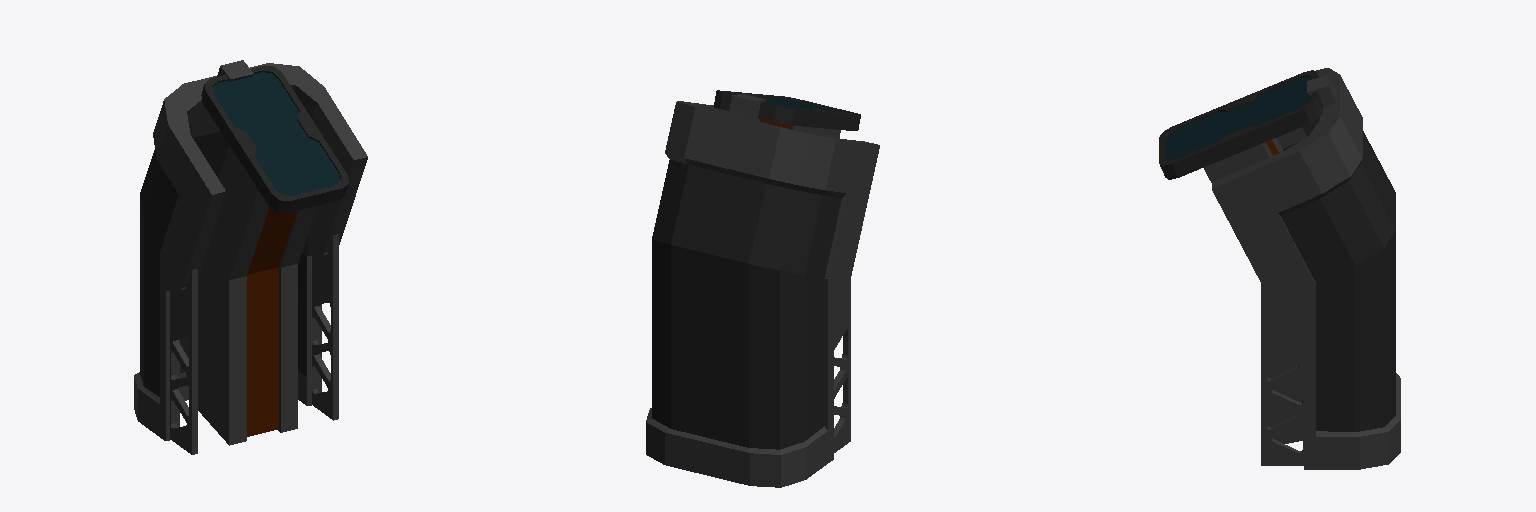
Rendered from Computer.obj.
3 views of the same model, side by side, from view 1: azimuth 30°, elevation 25°; view 2: azimuth 150°, elevation 25°; view 3: azimuth 270°, elevation 25° (orthographic).
Parts seen in each view (by area): view 1: Computer_Cube.006; view 2: Computer_Cube.006; view 3: Computer_Cube.006.
Boxes of the visible parts, x1,y1,x2,y2 form: Computer_Cube.006: [134, 60, 367, 454]; Computer_Cube.006: [646, 90, 879, 487]; Computer_Cube.006: [1159, 68, 1400, 469].
Bounding box in the file's own units: 0.4697 × 1.01 × 0.6293.